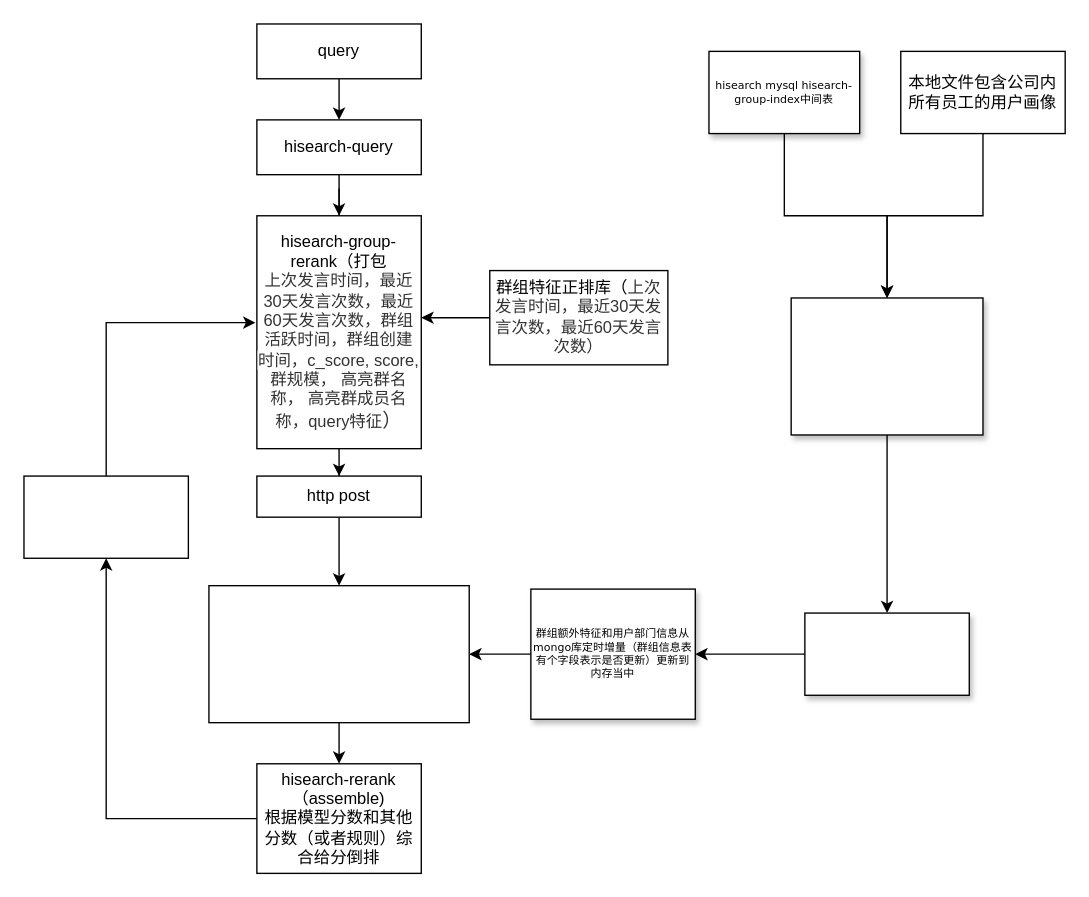
This 1089x897 diagram has some shape labels left out. The shapes that lost their labels are listed below. From the top down, each one's centre as x and y in pixels, then its label:
point (887, 368): infoflow-logsj 通过中间表中群组成员的uuap信息去关联群成员的部门信息然后做出部门分布统计后把用户画像和部门信息分别入库mongo
point (105, 516): 根据hisearch-rerank返回的群组顺序重排群组顺序返回结果
point (338, 653): hisearch-rerank （model_score) 根据原始特征经过一系列数据预处理后用处理好的特征喂入训练好的模型给出模型打分
point (887, 655): 群组额外特征线上mongo库
